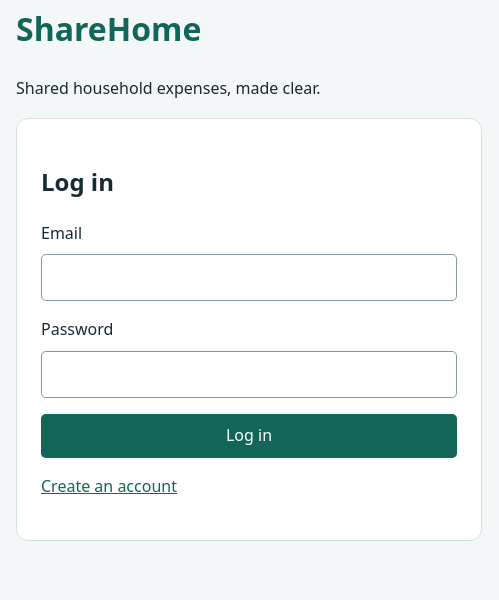
Test: shows a generic invalid-credentials error and clears the password
Type "alex@example.com" into the field labelled "Email" at (249, 278), box [41,254,457,301]
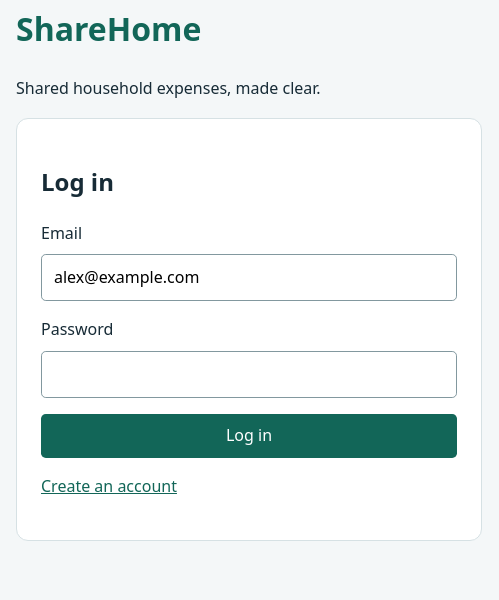
Type "test-password" into the password field labelled "Password" at (249, 374), box [41,351,457,398]
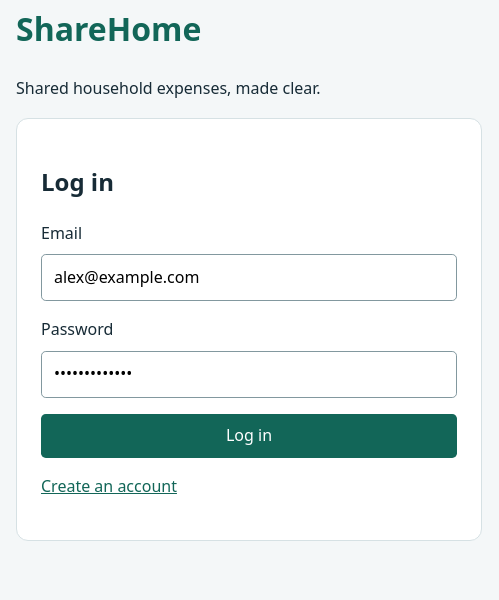
Click the button "Log in" at (249, 436), box [41,414,457,458]
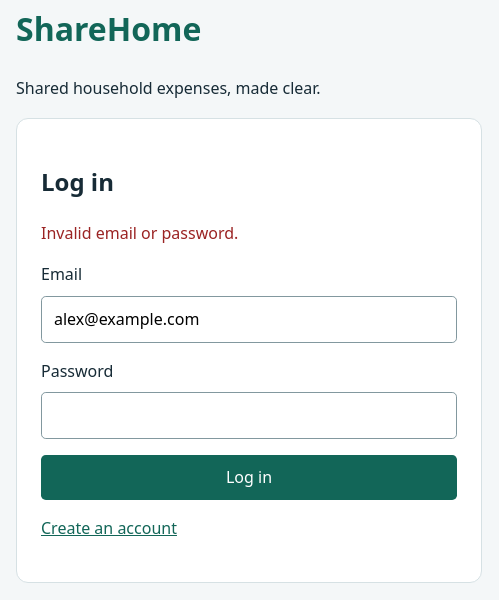
Check: the message reads "Invalid email or password.", box [41,222,238,244]
Check: the password field labelled "Password" is empty, box [41,392,457,439]
